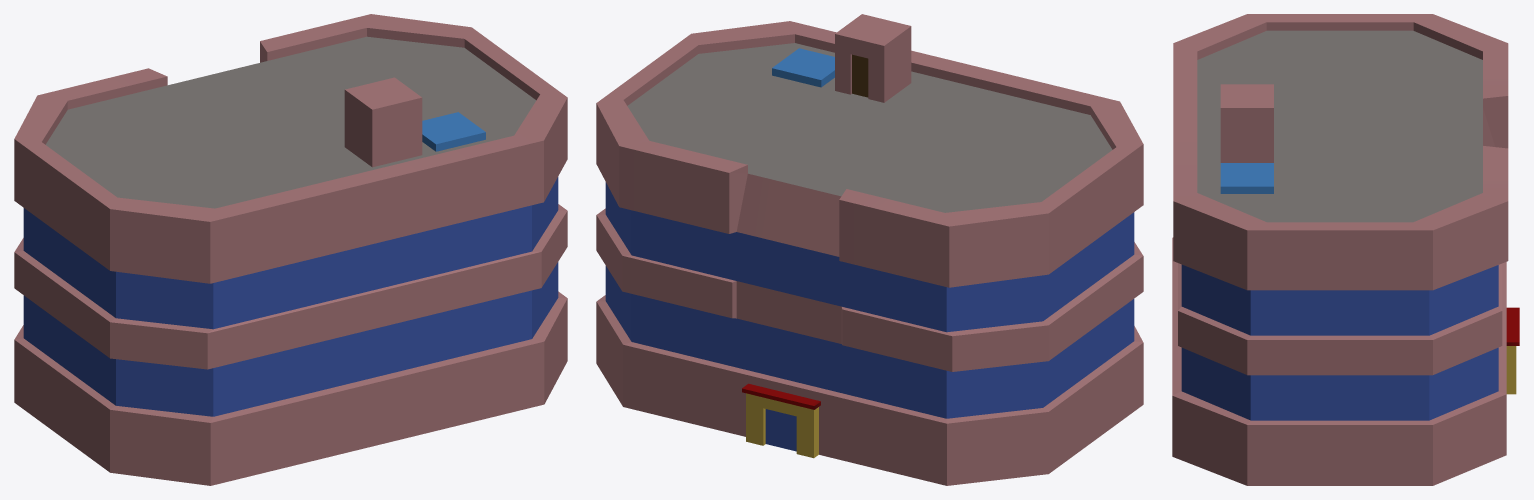
File: Target_Building_5.fbx
The picture shows the model from 3 angles, left to right: view 1: azimuth 30°, elevation 25°; view 2: azimuth 150°, elevation 25°; view 3: azimuth 270°, elevation 25°; orthographic projection. The views are drawn at different scales.
Visible parts, largest first — view 1: Building_5; view 2: Building_5; view 3: Building_5.
Part boxes in pixels (bbox=[...]): Building_5: bbox=[14, 14, 567, 485]; Building_5: bbox=[596, 14, 1143, 485]; Building_5: bbox=[1172, 14, 1519, 485].
Size of the model in its own units: 273 by 178 by 185.
